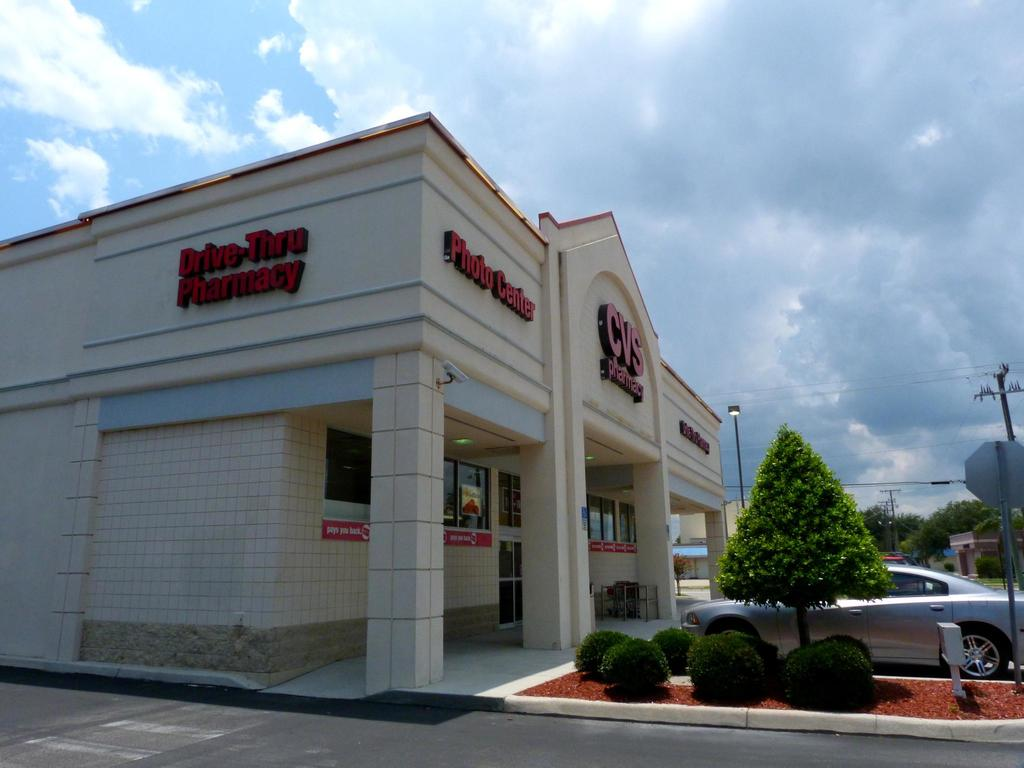Car: (680, 561, 1023, 682)
